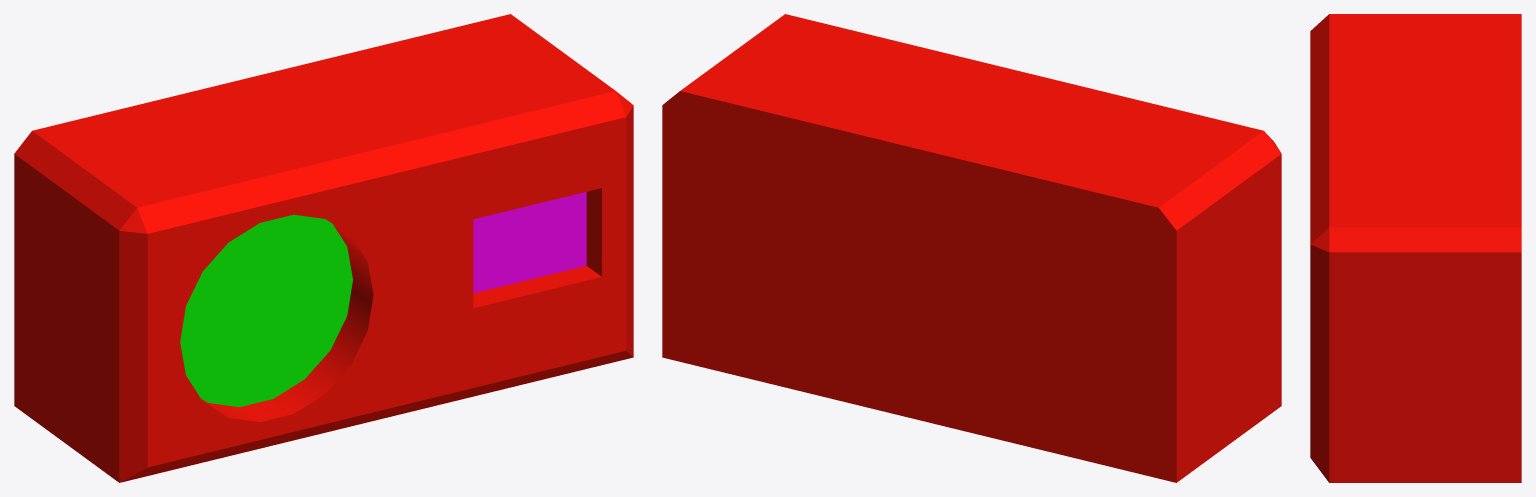
File: Radar.FBX
The picture shows the model from 3 angles, left to right: view 1: azimuth 30°, elevation 25°; view 2: azimuth 150°, elevation 25°; view 3: azimuth 270°, elevation 25°; orthographic projection. The views are drawn at different scales.
Visible parts, largest first — view 1: Radar; view 2: Radar; view 3: Radar.
Part boxes in pixels (bbox=[...]): Radar: bbox=[14, 14, 633, 482]; Radar: bbox=[662, 14, 1281, 482]; Radar: bbox=[1310, 14, 1521, 482].
Bounding box in the file's own units: 59.23 × 29.81 × 23.04.
